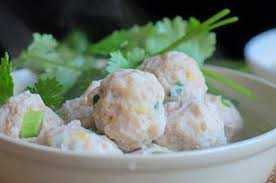bakso: (31, 39, 226, 149)
